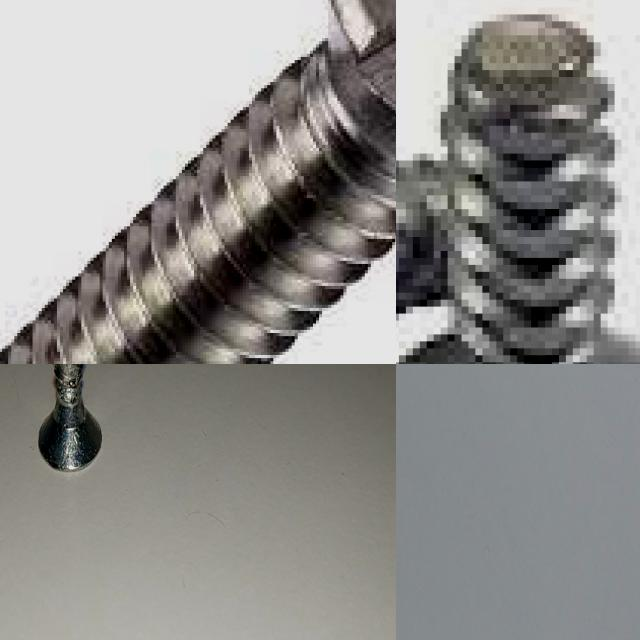Screw: (0, 0, 396, 364), (396, 14, 640, 364), (38, 364, 101, 470)
